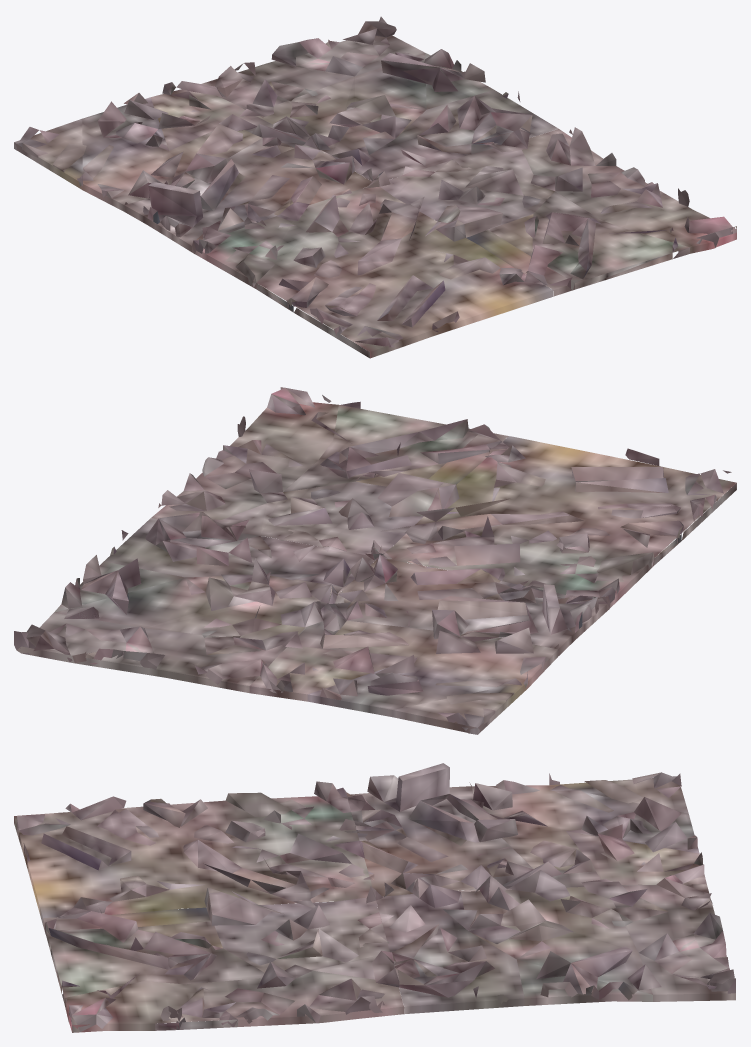
3 renders of one model, top to bottom at view 1: azimuth 30°, elevation 25°; view 2: azimuth 150°, elevation 25°; view 3: azimuth 270°, elevation 25°, orthographic. The views are drawn at different scales.
Visible parts, largest first — view 1: Mesh_0; view 2: Mesh_0; view 3: Mesh_0.
Boxes of the visible parts, <box> form: Mesh_0: <box>14,16,736,358</box>; Mesh_0: <box>14,387,736,734</box>; Mesh_0: <box>14,763,735,1032</box>.
Bounding box in the file's own units: 533 × 44.66 × 660.
1 material, 1 textured.
